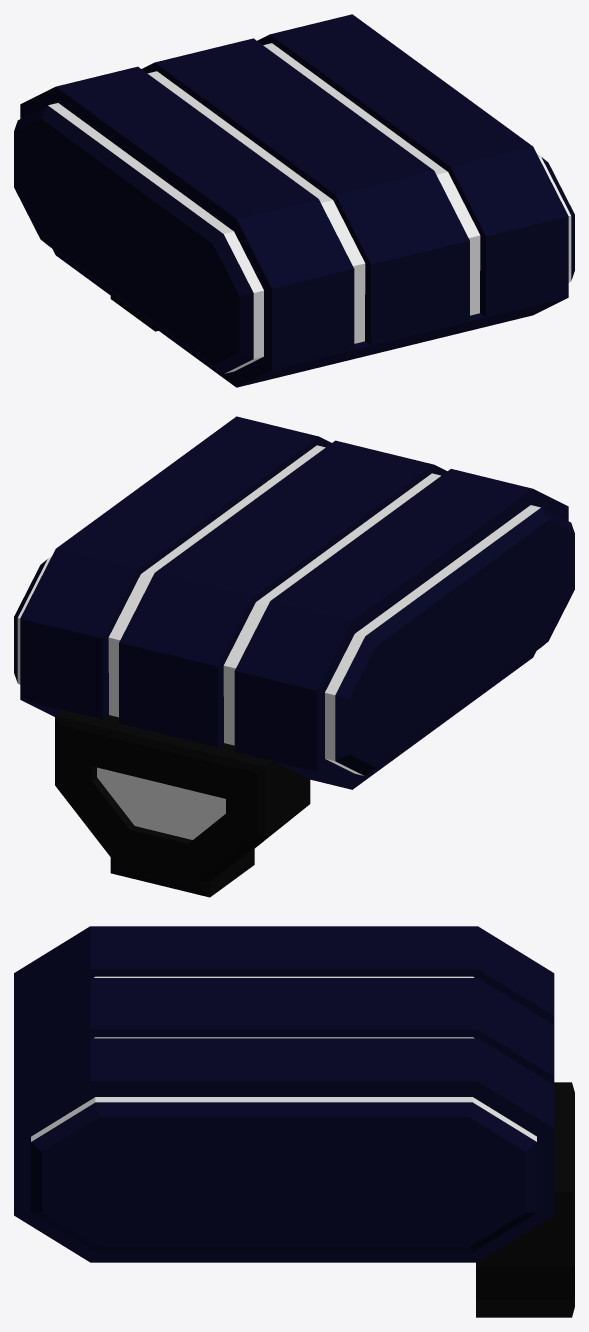
File: CS 4483 Bulky Drone.fbx
3 renders of one model, top to bottom at view 1: azimuth 30°, elevation 25°; view 2: azimuth 150°, elevation 25°; view 3: azimuth 270°, elevation 25°, orthographic. The views are drawn at different scales.
Visible parts, largest first — view 1: Bulk Drone; view 2: Bulk Drone; view 3: Bulk Drone.
Boxes of the visible parts, <box> form: Bulk Drone: <box>14,14,574,387</box>; Bulk Drone: <box>14,416,574,897</box>; Bulk Drone: <box>14,926,574,1317</box>.
Size of the model in its own units: 226 by 173 by 305.
